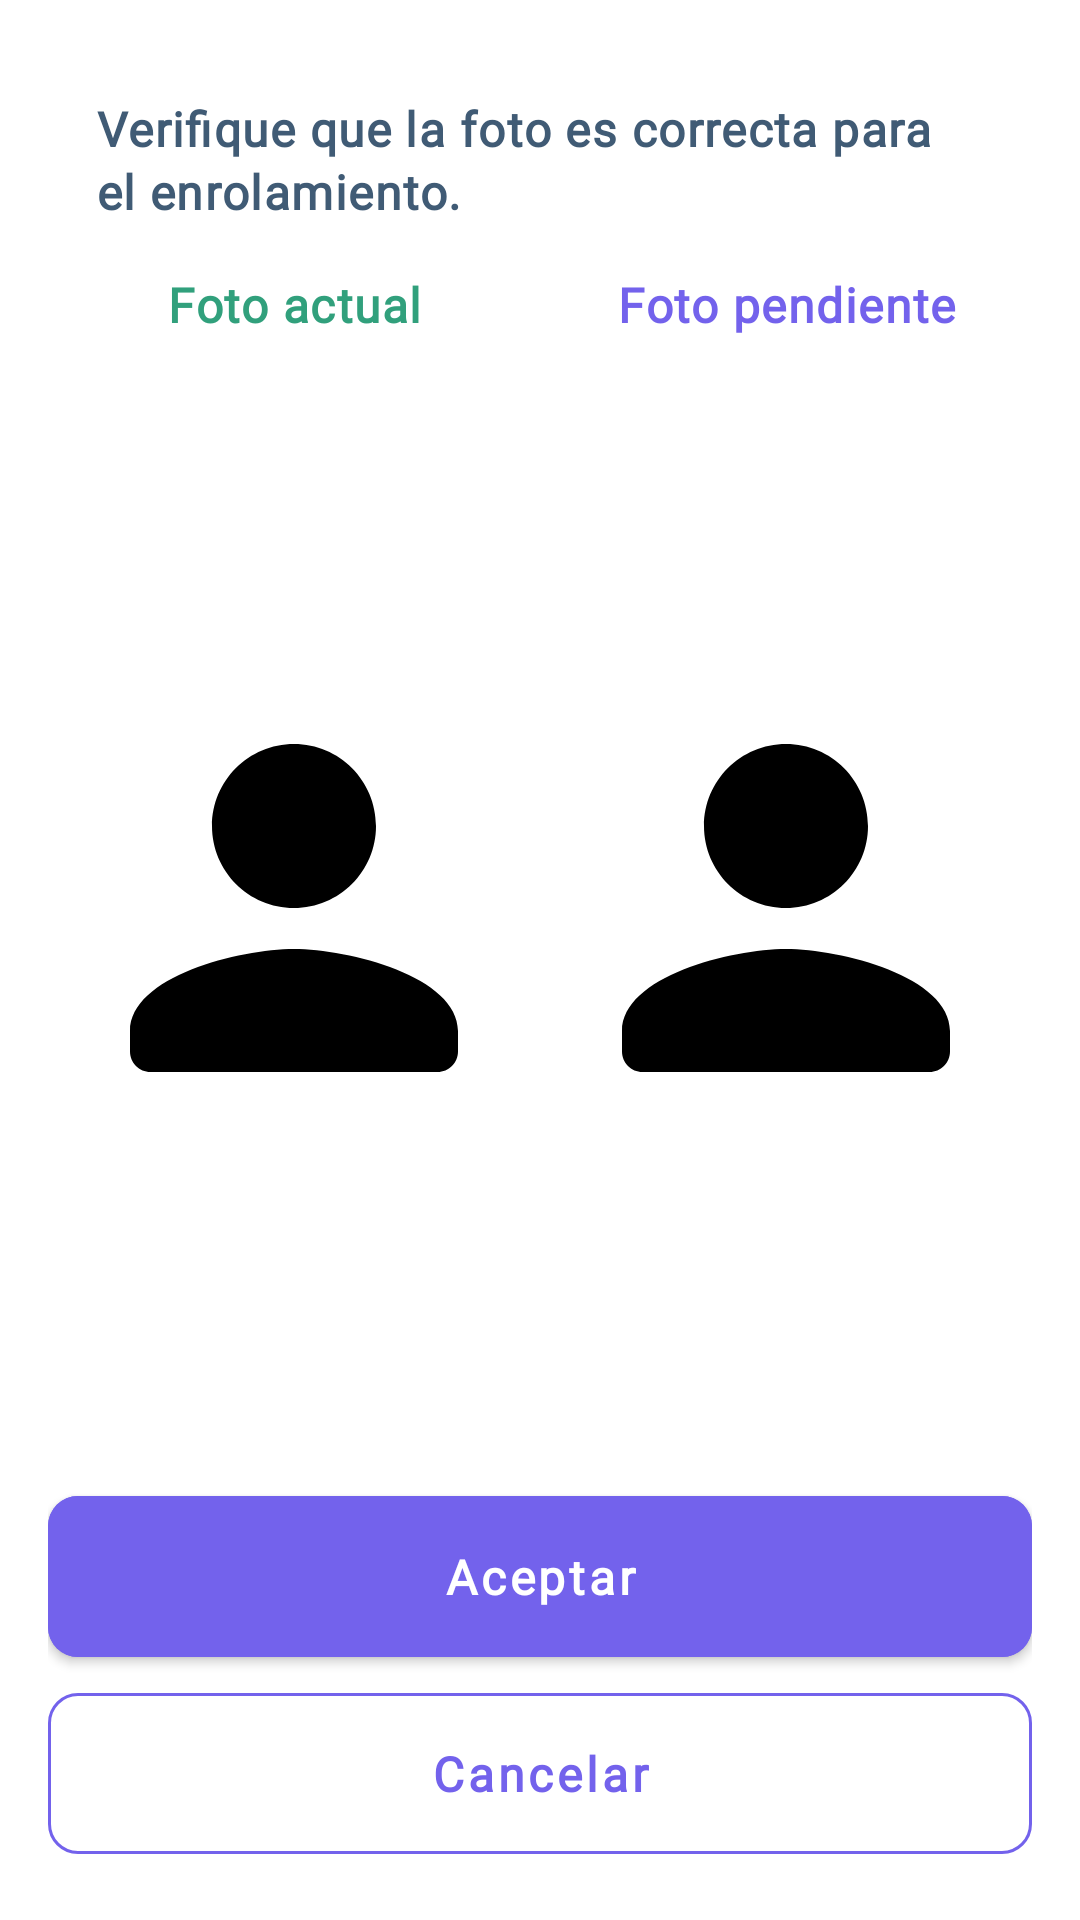

Where to tap for icons on this 1080 x 1920 app screen, as point (x, y):
user: point (294, 908), point (786, 908)
